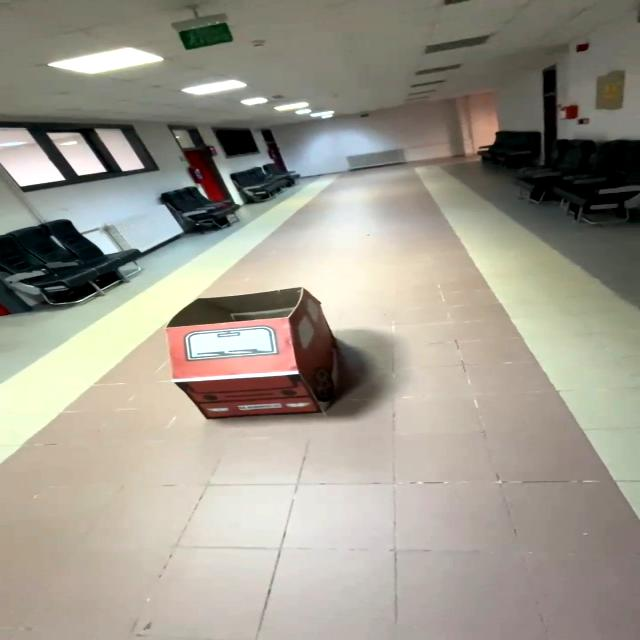red_car: (137, 284, 379, 436)
